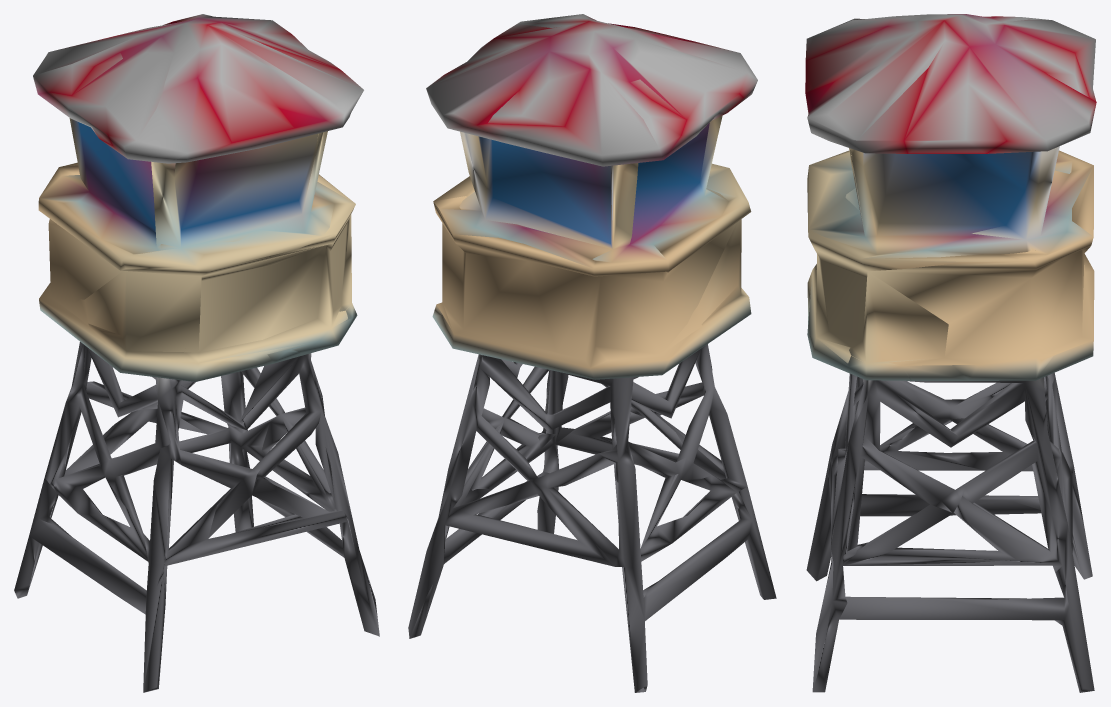
The model's file is gen3d-lifeguard-tower-lod1.glb.
The picture shows the model from 3 angles, left to right: view 1: azimuth 30°, elevation 25°; view 2: azimuth 150°, elevation 25°; view 3: azimuth 270°, elevation 25°; orthographic projection. The views are drawn at different scales.
Parts seen in each view (by area): view 1: part_0; view 2: part_0; view 3: part_0.
Boxes of the visible parts, x1=… form: part_0: x1=14, y1=14, x2=379, y2=692; part_0: x1=408, y1=14, x2=776, y2=692; part_0: x1=805, y1=14, x2=1096, y2=692.
Size of the model in its own units: 0.4265 by 0.9968 by 0.4265.
